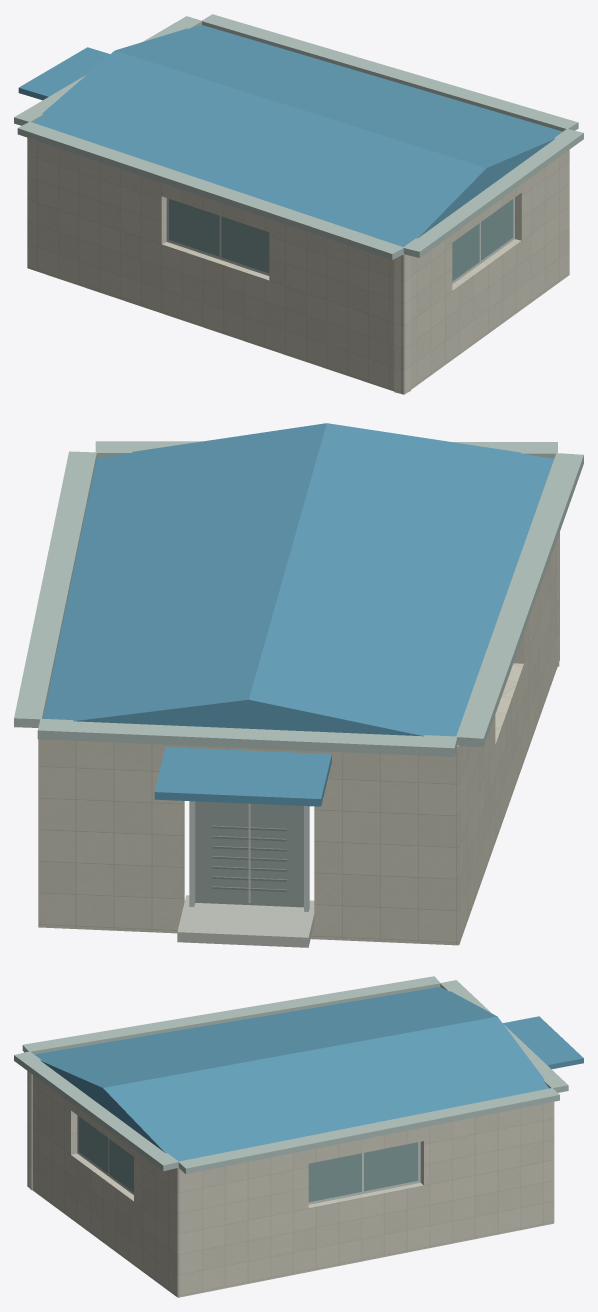
3 views of the same model, one above another, from view 1: azimuth 30°, elevation 25°; view 2: azimuth 150°, elevation 25°; view 3: azimuth 270°, elevation 25° (orthographic). The views are drawn at different scales.
Visible parts, largest first — view 1: westblue__wall, westblue__roof, westblue__rib, westblue__glass, westblue__frame; view 2: westblue__roof, westblue__wall, westblue__rib, westblue__door, westblue__threshold-entry, westblue__frame, westblue__vent; view 3: westblue__wall, westblue__roof, westblue__rib, westblue__glass, westblue__frame.
Boxes of the visible parts, left/top/right/bottom form: westblue__wall: left=27, top=137, right=569, bottom=394; westblue__roof: left=18, top=25, right=562, bottom=252; westblue__rib: left=14, top=14, right=583, bottom=260; westblue__glass: left=169, top=199, right=513, bottom=281; westblue__frame: left=166, top=197, right=514, bottom=283; westblue__roof: left=43, top=423, right=553, bottom=806; westblue__wall: left=38, top=532, right=559, bottom=945; westblue__rib: left=14, top=441, right=583, bottom=756; westblue__door: left=195, top=801, right=303, bottom=907; westblue__threshold-entry: left=177, top=895, right=314, bottom=947; westblue__frame: left=189, top=801, right=309, bottom=911; westblue__vent: left=212, top=825, right=286, bottom=891; westblue__wall: left=27, top=1071, right=554, bottom=1297; westblue__roof: left=34, top=987, right=583, bottom=1165; westblue__rib: left=14, top=976, right=568, bottom=1174; westblue__glass: left=78, top=1116, right=418, bottom=1202; westblue__frame: left=77, top=1115, right=420, bottom=1204.
Size of the model in its own units: 10.02 by 3.74 by 12.54.
8 materials, 1 textured.
